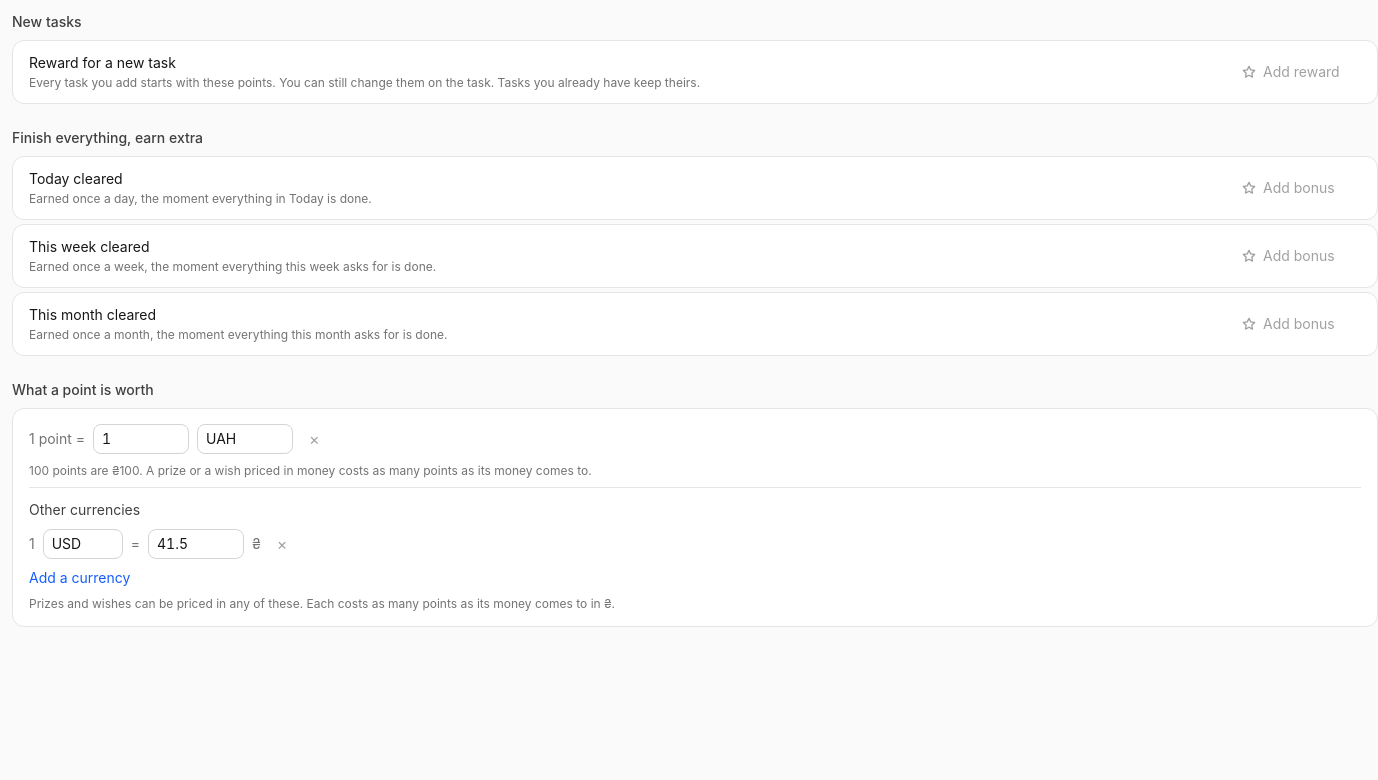
Test case: other currencies (RWD-49) › says what will not do rather than adding it
Click the button "Add a currency": (80, 578) [29,568,130,588]
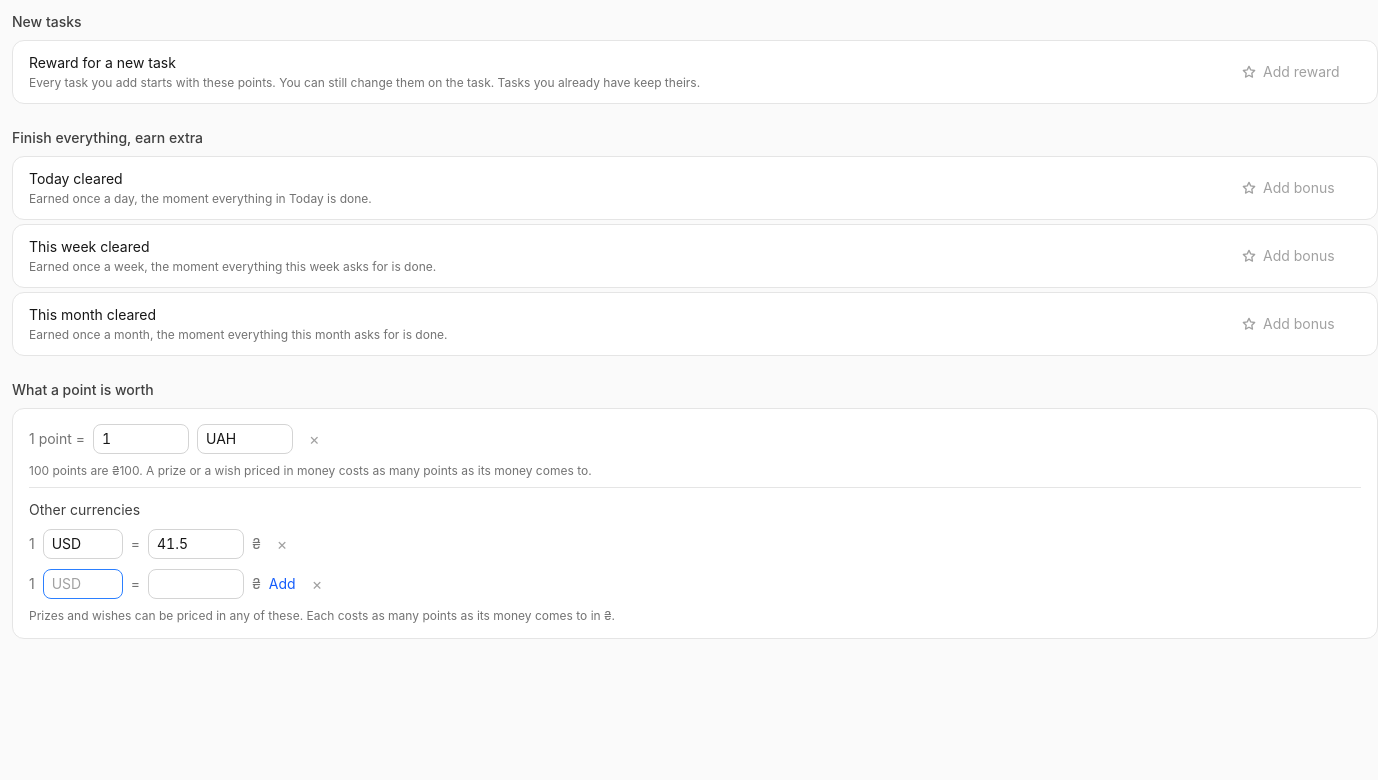
Type keys "usd"
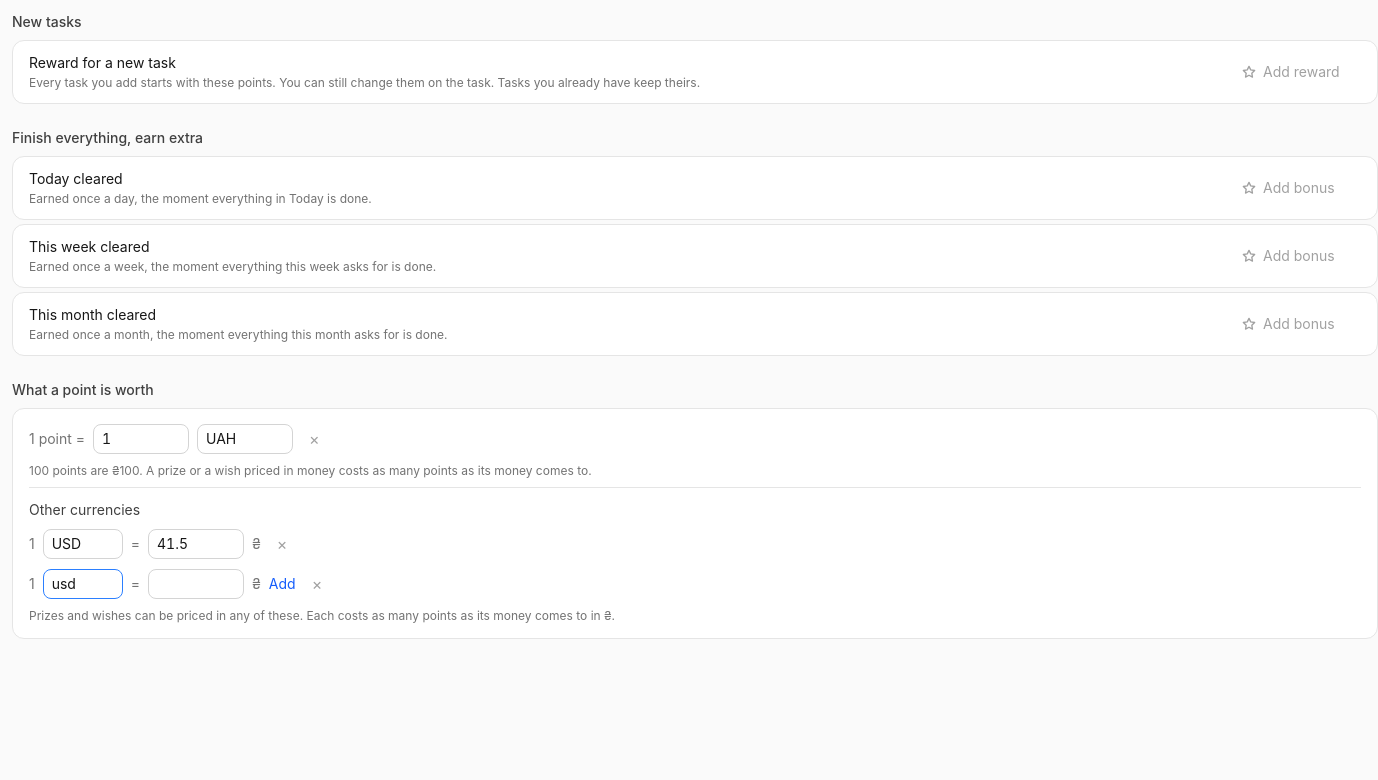
In the number field named "What one of it is worth in UAH": (196, 584) [148,569,244,599], type "40"
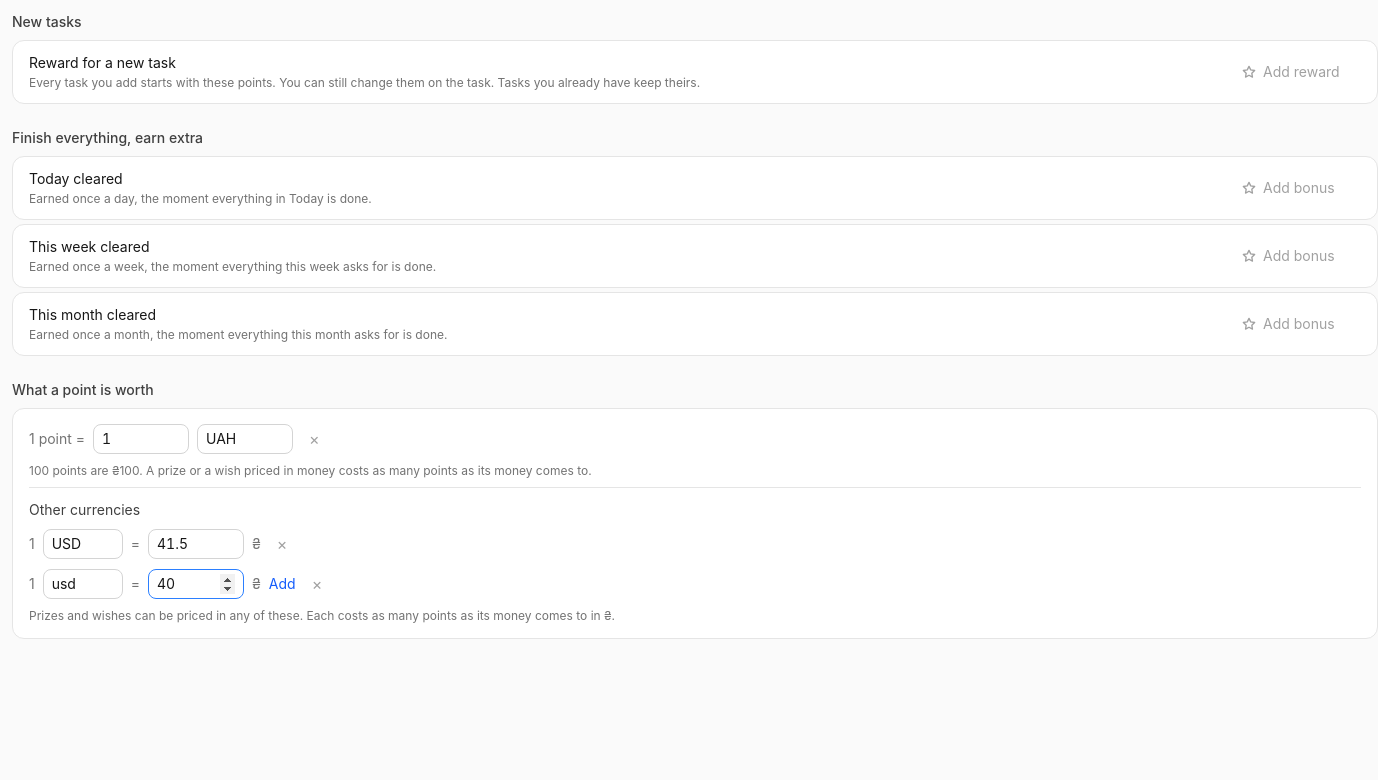
Click the button "Add": (282, 584) [269,574,296,594]
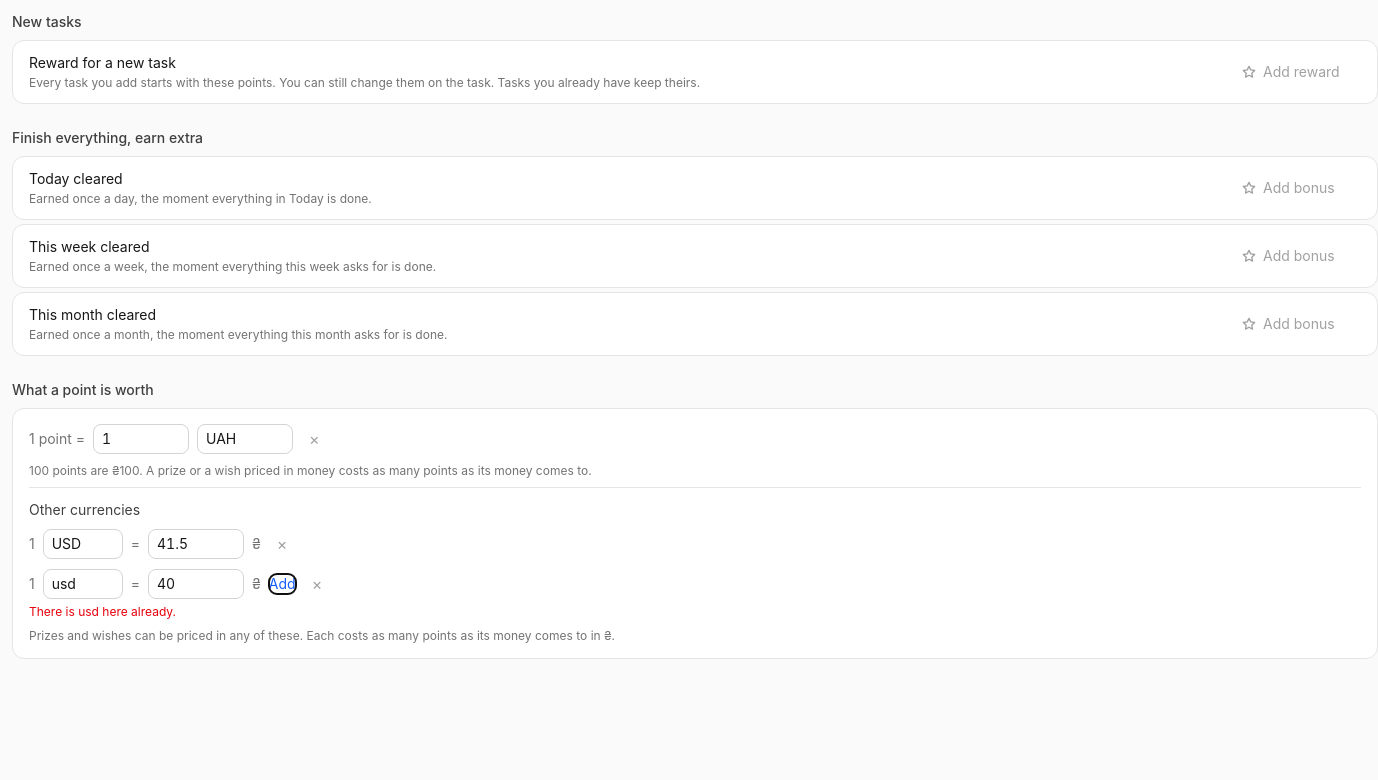
Expected: the message reads "There is usd here already.", [29,604,176,619]
